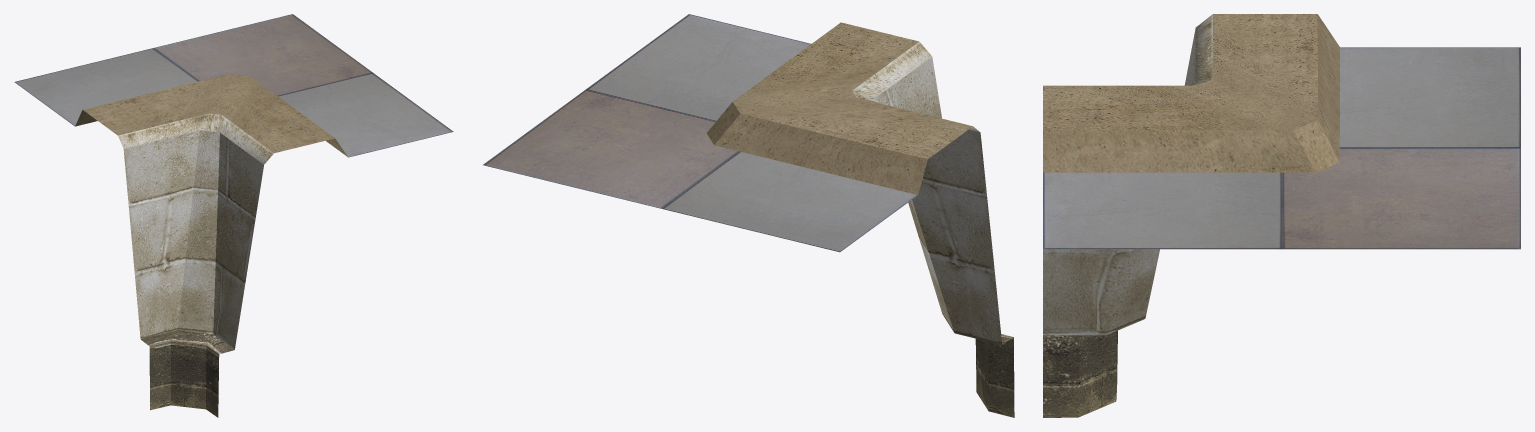
Rendered from castle-wall-edge-2-half.fbx.
3 views of the same model, side by side, from view 1: azimuth 30°, elevation 25°; view 2: azimuth 150°, elevation 25°; view 3: azimuth 270°, elevation 25° (orthographic). The views are drawn at different scales.
Parts seen in each view (by area): view 1: castle-wall-edge-2-half; view 2: castle-wall-edge-2-half; view 3: castle-wall-edge-2-half.
Part boxes in pixels (<box>): castle-wall-edge-2-half: <box>14,14,453,417</box>; castle-wall-edge-2-half: <box>483,14,1014,417</box>; castle-wall-edge-2-half: <box>1043,14,1520,417</box>.
Size of the model in its own units: 200 by 172 by 200.
